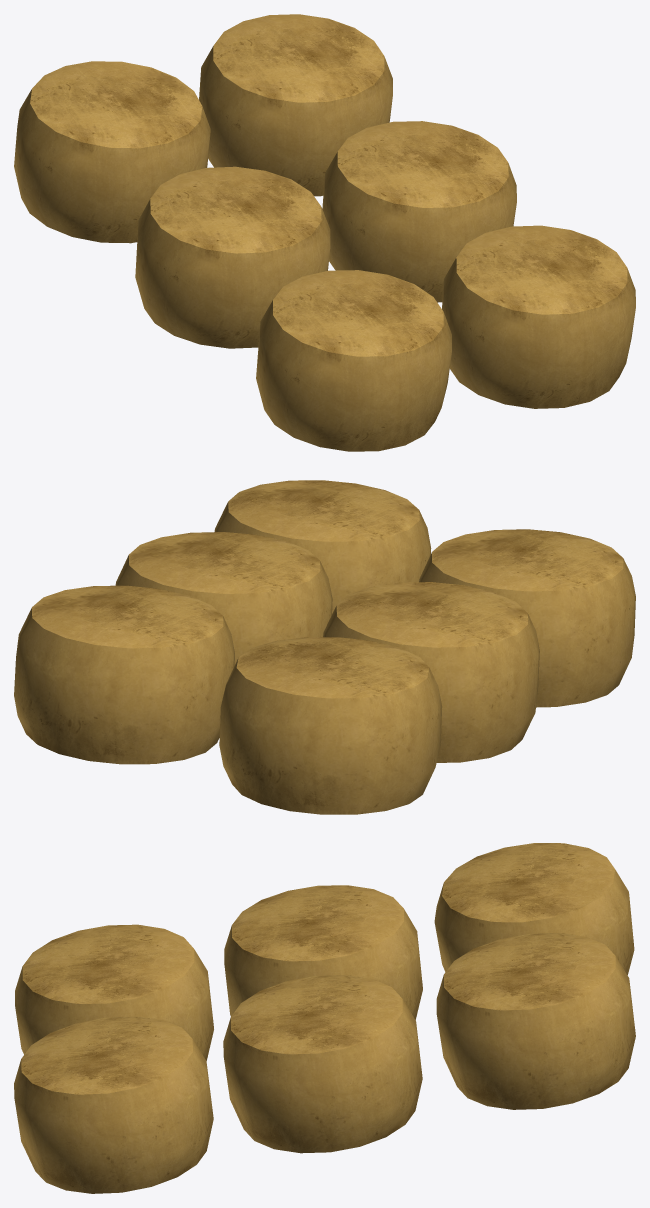
The model's file is cheese.fbx.
The picture shows the model from 3 angles, top to bottom: view 1: azimuth 30°, elevation 25°; view 2: azimuth 150°, elevation 25°; view 3: azimuth 270°, elevation 25°; orthographic projection. The views are drawn at different scales.
Parts seen in each view (by area): view 1: AM216_17_cheese_01_20_1; view 2: AM216_17_cheese_01_20_1; view 3: AM216_17_cheese_01_20_1.
Boxes of the visible parts, x1,y1,x2,y2 form: AM216_17_cheese_01_20_1: [14, 14, 635, 451]; AM216_17_cheese_01_20_1: [14, 480, 635, 814]; AM216_17_cheese_01_20_1: [14, 843, 635, 1193].
Size of the model in its own units: 35.84 by 16.77 by 49.4.
